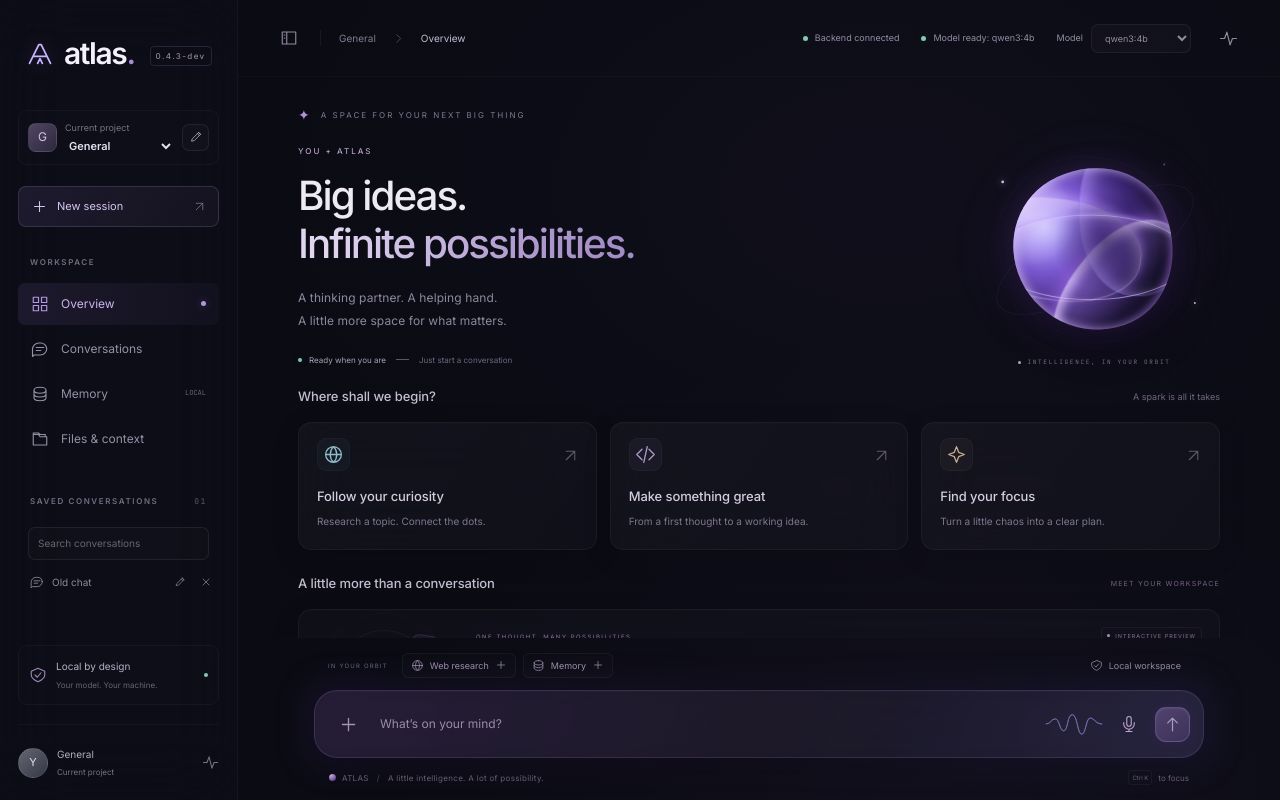
Test: opens and deletes a saved conversation
expect the text "Backend connected" is shown: met, box [803,31,899,45]
expect the text "Model ready: qwen3:4b" is shown: met, box [921,31,1034,45]
What coordinates should you click on to do the following:
click the button "Old chat"
I would click on:
 (92, 582)
Its box is [18,564,167,600].
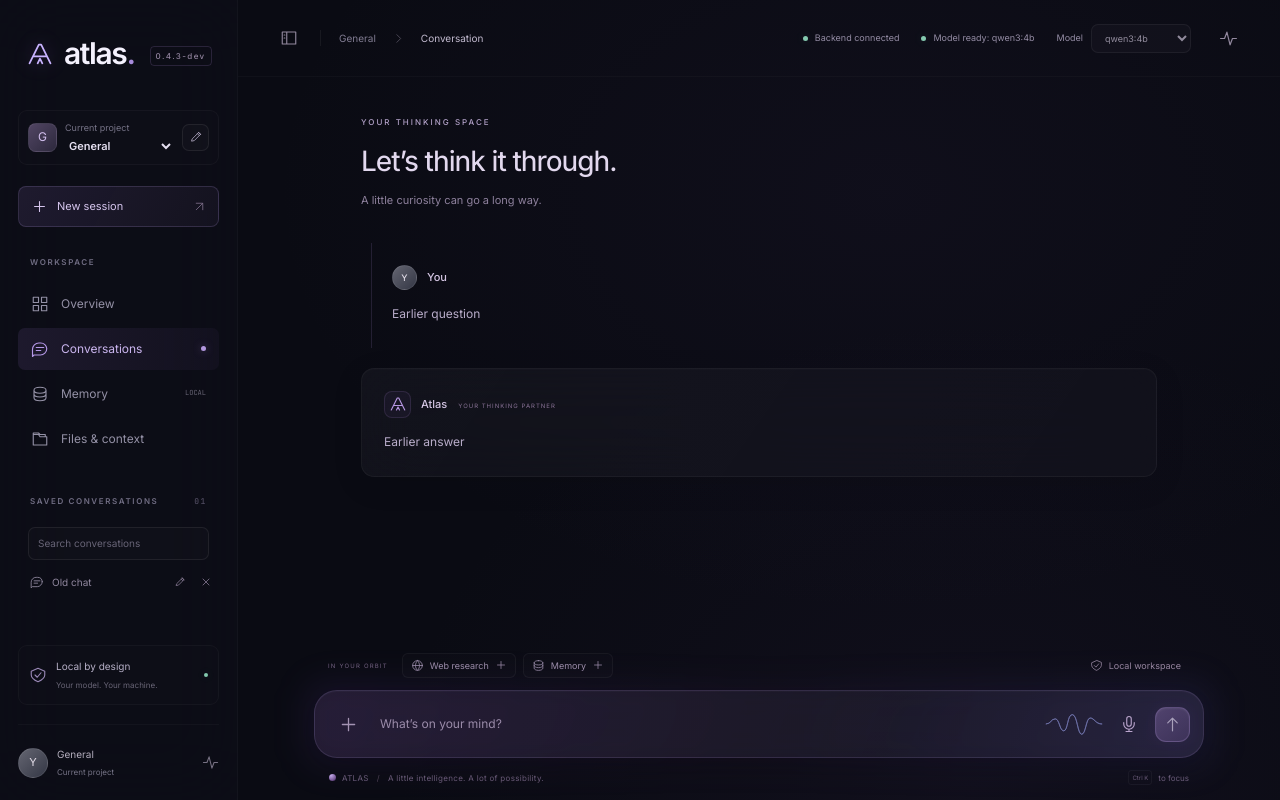
expect the text "Earlier answer" is shown: met, box [384,434,465,449]
What coordinates should you click on to do the following:
click the button "New session"
I would click on:
 (118, 206)
Its box is [18,186,219,226].
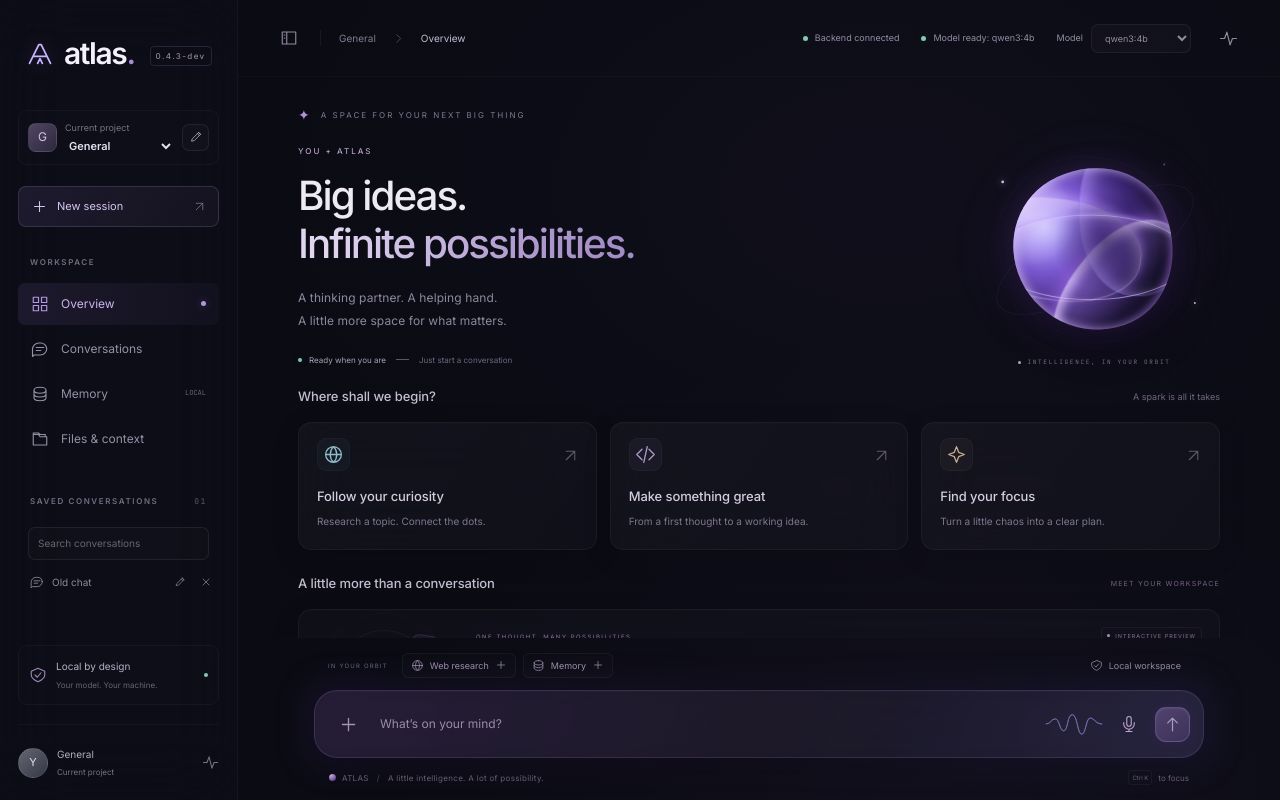
What coordinates should you click on to do the following:
click the button named "Delete Old chat"
I would click on:
 (206, 582)
Its box is [193,566,219,598].
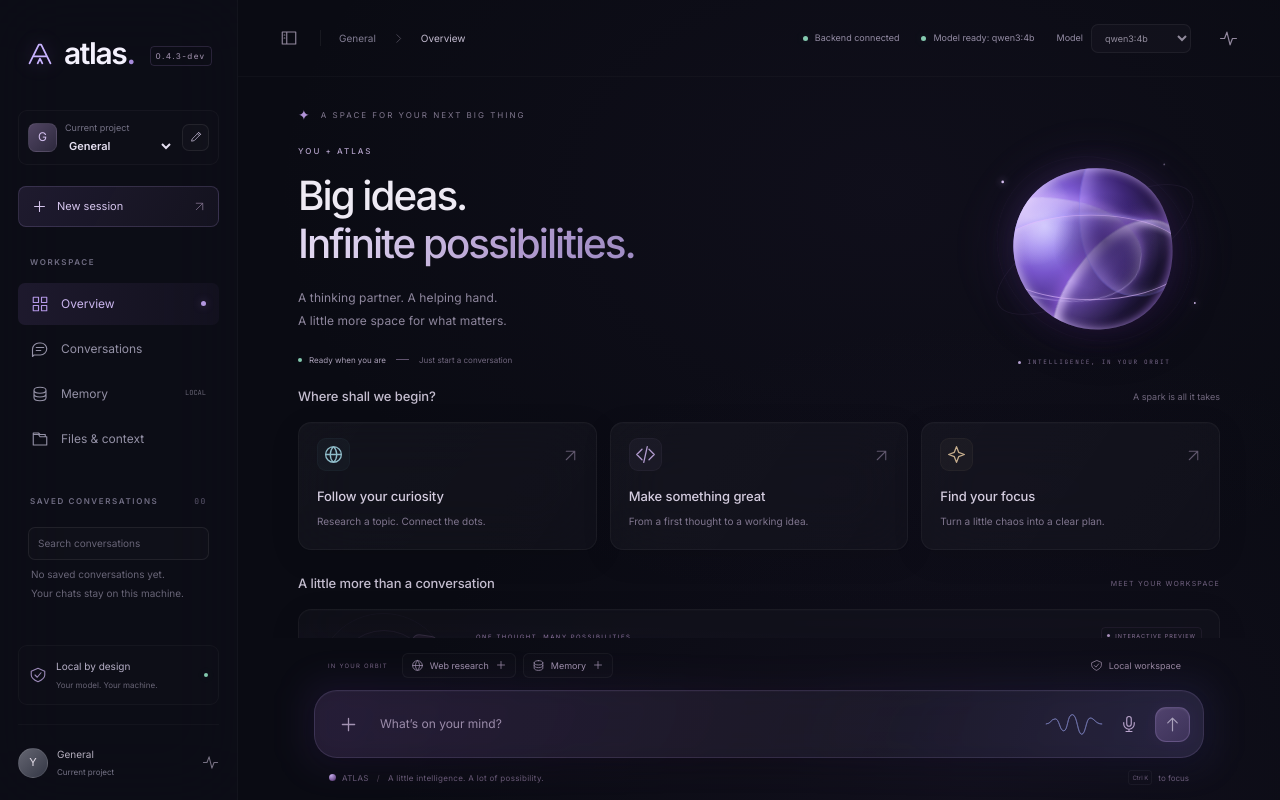
expect the button "Old chat" is gone: met
